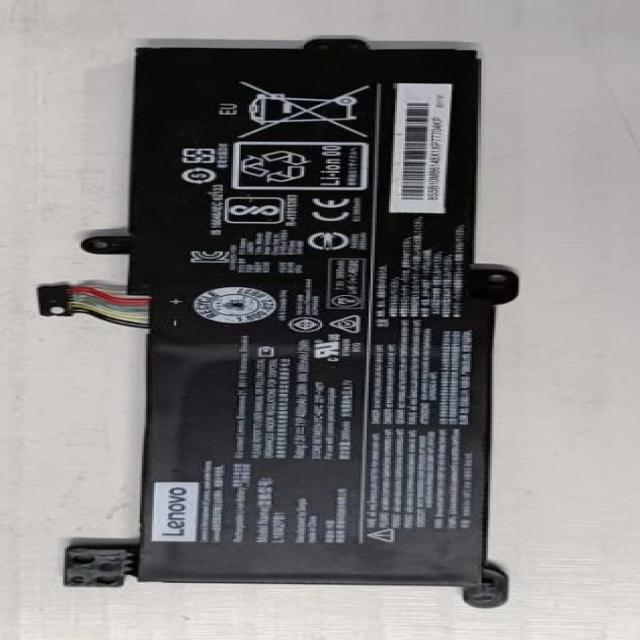electronic: (35, 18, 571, 611)
